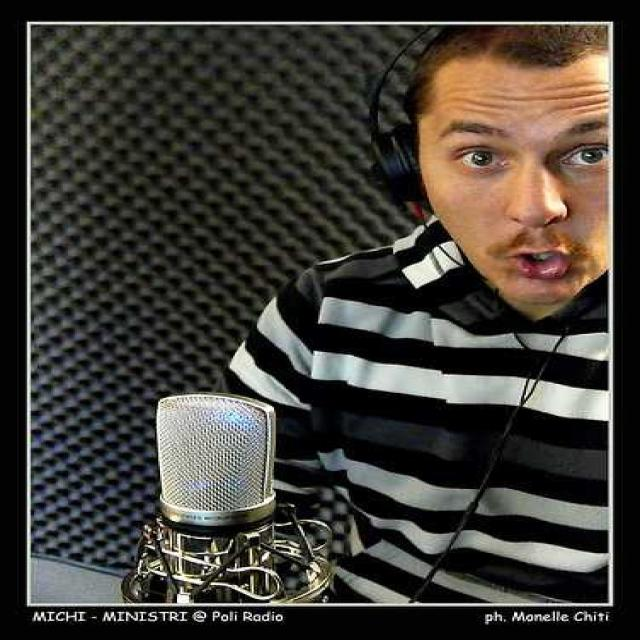microphone: (154, 384, 298, 569)
